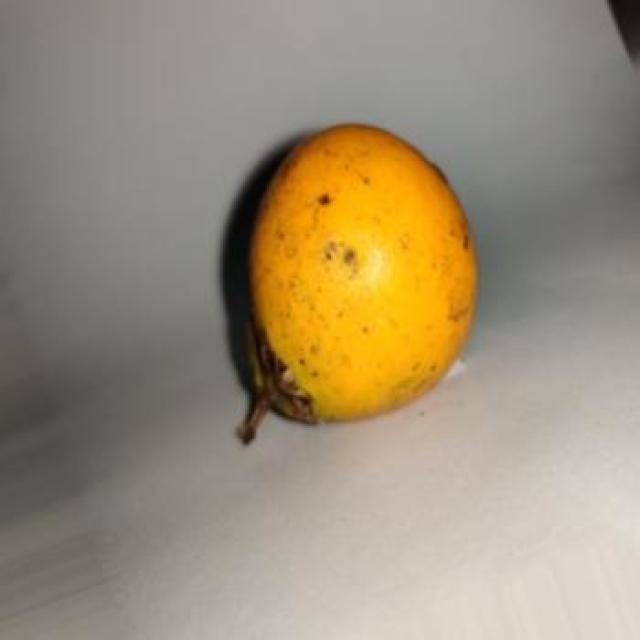good: (245, 124, 479, 428)
